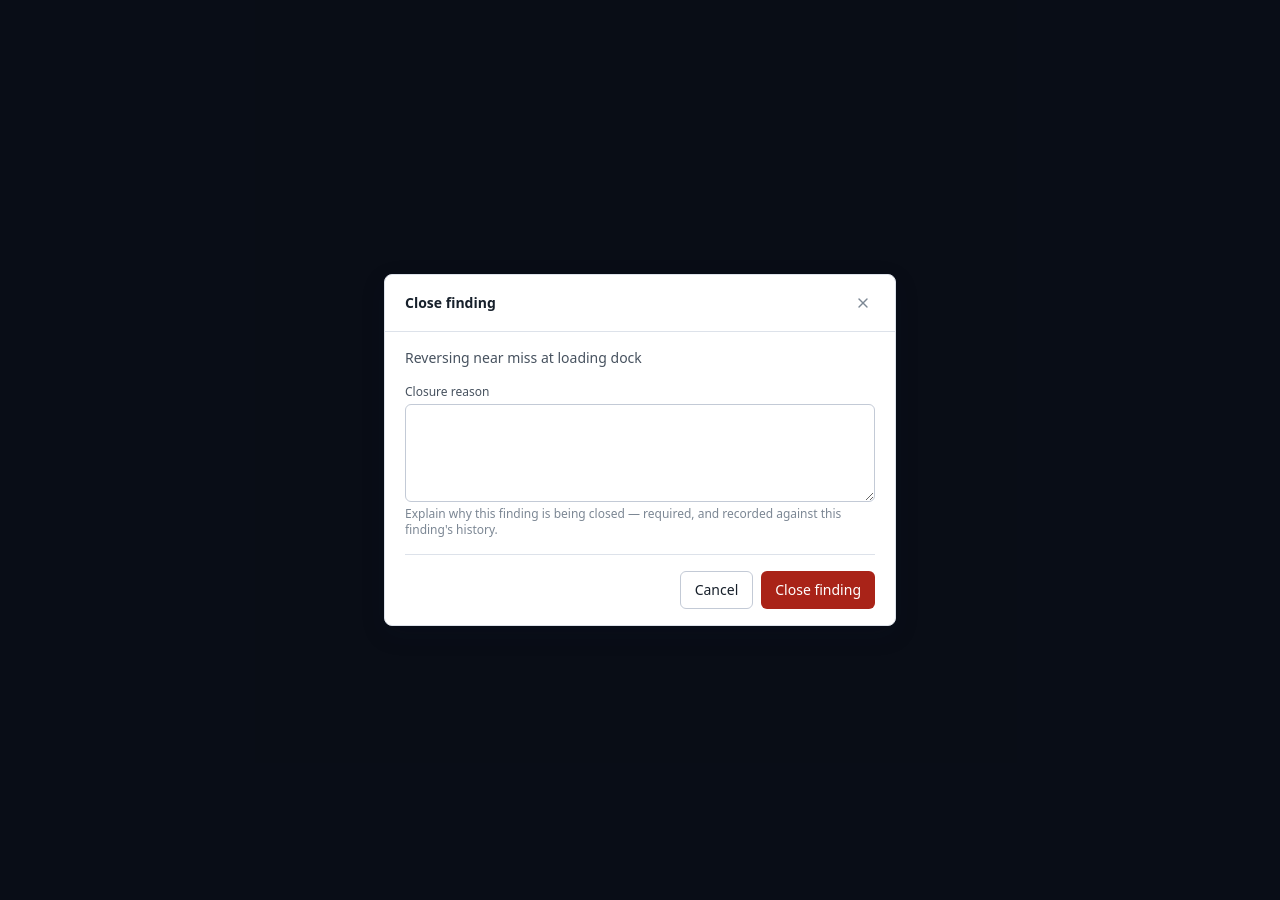
FindingCloseDialog › requires a non-blank closure reason
Click the button "Close finding" at [818, 590], box [761,571,875,609]
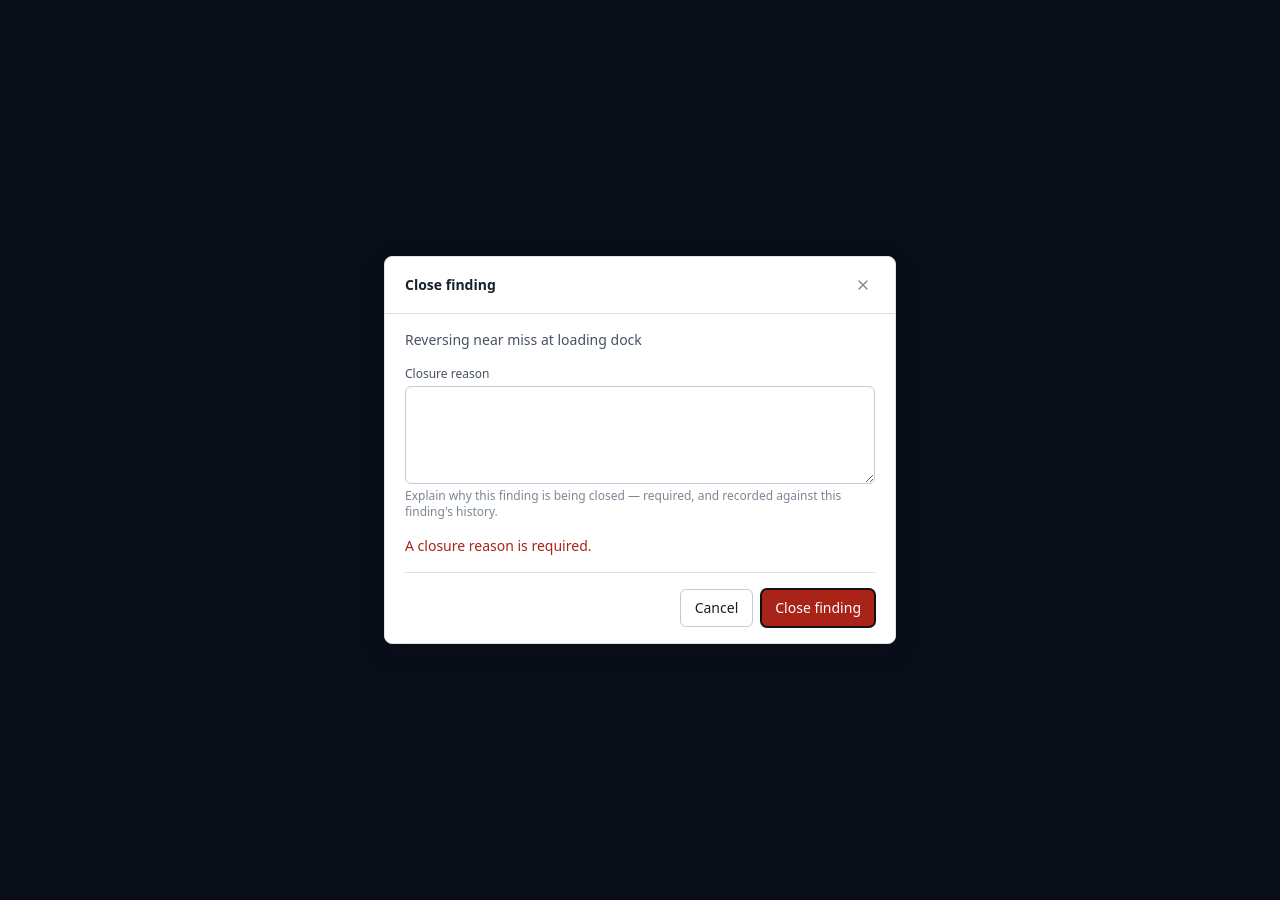
Result: the message reads "A closure reason is required." at [405,536,592,555]
